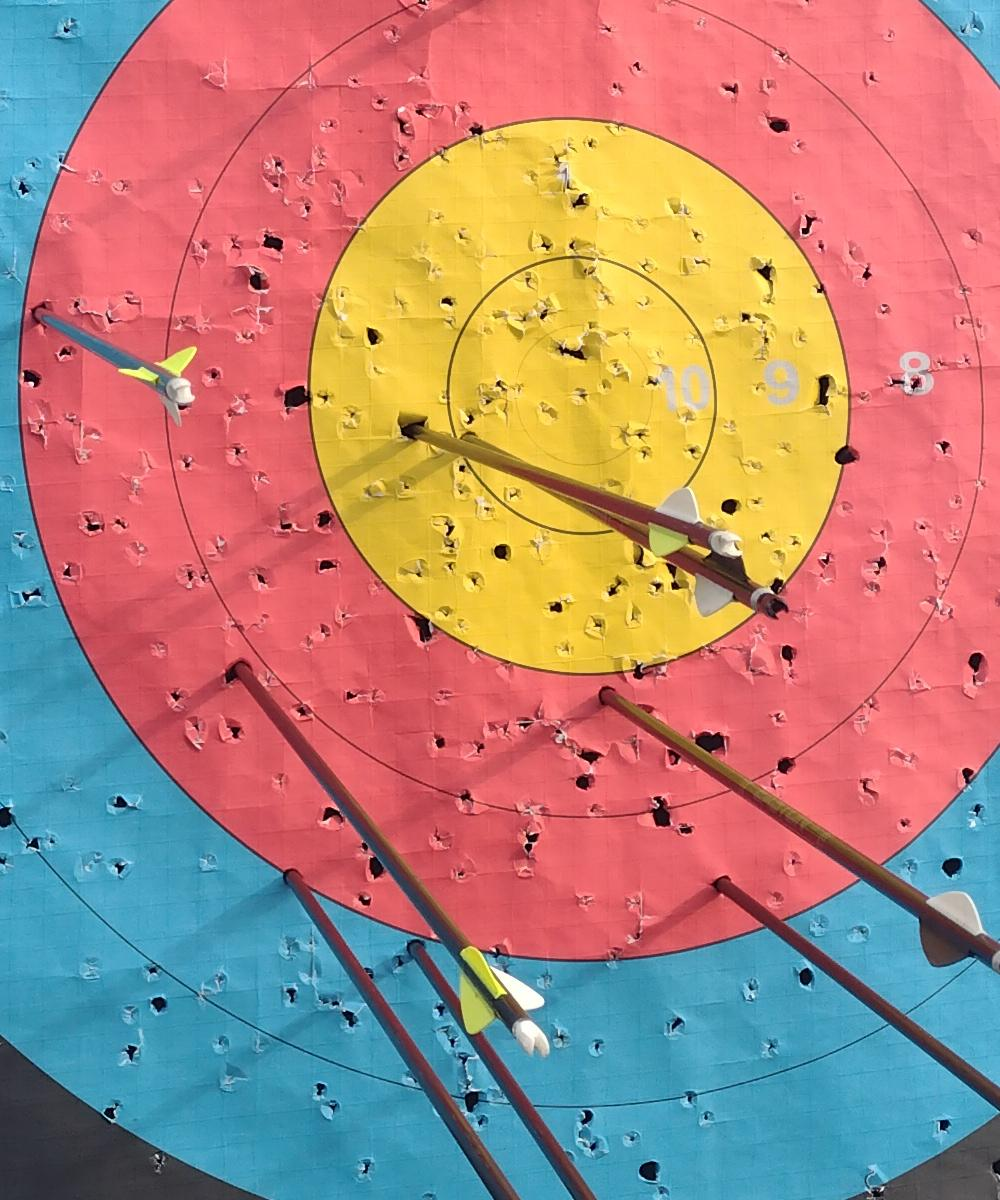10-Ring: (410, 223, 750, 569)
7-Ring: (17, 0, 1000, 961)
8-Ring: (166, 0, 977, 820)
9-Ring: (309, 124, 840, 675)
Arrow: (184, 662, 574, 1085), (444, 401, 805, 652), (394, 425, 754, 574), (403, 940, 598, 1200), (28, 259, 224, 428)
